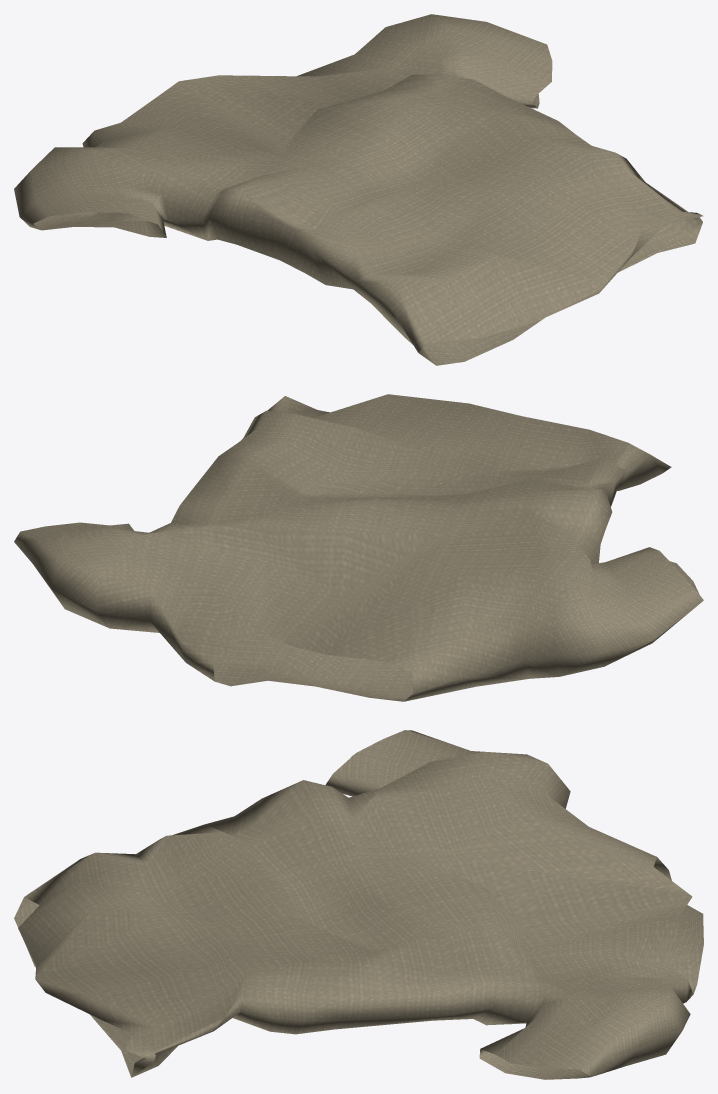
Rendered from ShirtBaige.fbx.
3 views of the same model, one above another, from view 1: azimuth 30°, elevation 25°; view 2: azimuth 150°, elevation 25°; view 3: azimuth 270°, elevation 25° (orthographic). The views are drawn at different scales.
Parts seen in each view (by area): view 1: Shirt01OBJ3; view 2: Shirt01OBJ3; view 3: Shirt01OBJ3.
Part boxes in pixels (box(x1,y1,x2,y2)): Shirt01OBJ3: box(14, 14, 703, 365); Shirt01OBJ3: box(14, 394, 703, 701); Shirt01OBJ3: box(14, 730, 703, 1079).
Bounding box in the file's own units: 64.87 × 10.87 × 59.73.
Materials: 1 (1 with a texture image).
